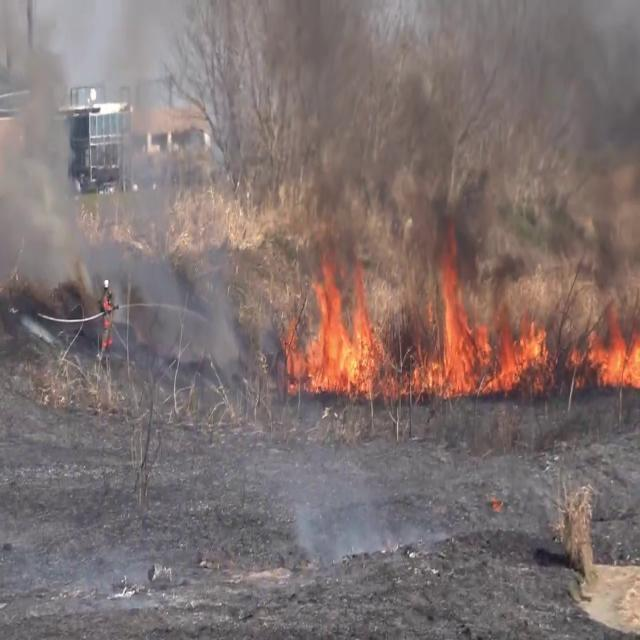Fire: (418, 236, 550, 398), (278, 252, 391, 400), (579, 314, 640, 393)
Smoke: (259, 0, 640, 253), (0, 1, 251, 288)
